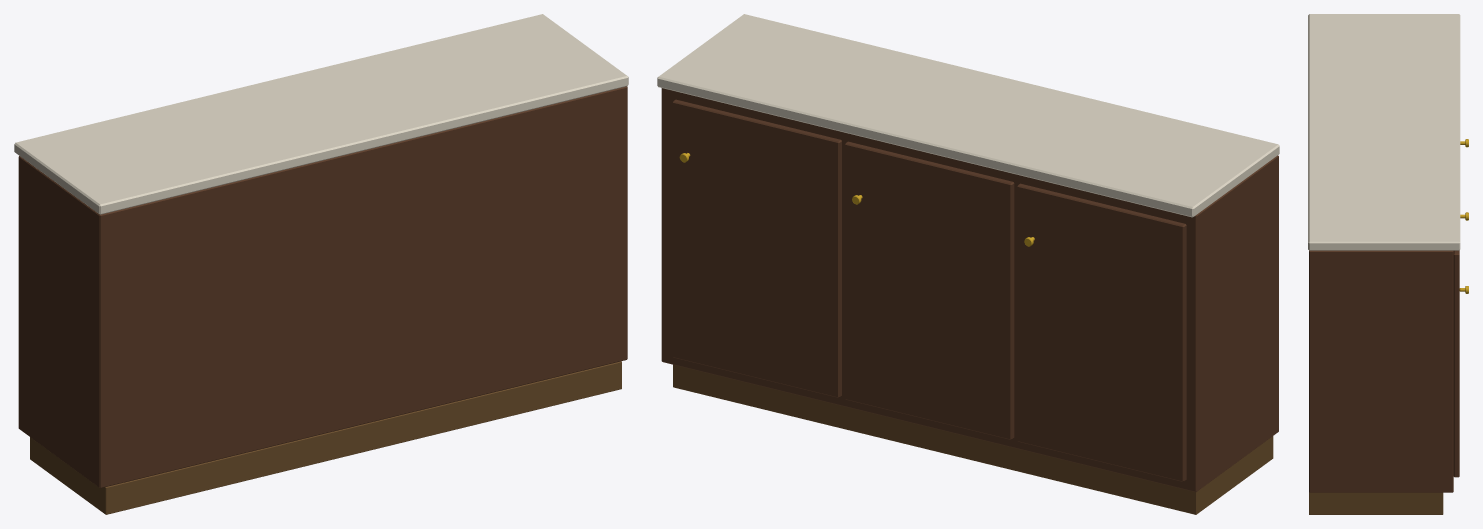
Rendered from prop_of_coffee_service_w160.glb.
The picture shows the model from 3 angles, left to right: view 1: azimuth 30°, elevation 25°; view 2: azimuth 150°, elevation 25°; view 3: azimuth 270°, elevation 25°; orthographic projection. The views are drawn at different scales.
Visible parts, largest first — view 1: Service; view 2: Service; view 3: Service.
Part boxes in pixels (box(x1,y1,x2,y2)): Service: box(14, 14, 628, 514); Service: box(657, 14, 1279, 514); Service: box(1308, 14, 1468, 514).
Size of what is drawn, in the model's own units: 1.6 by 0.9 by 0.475.
